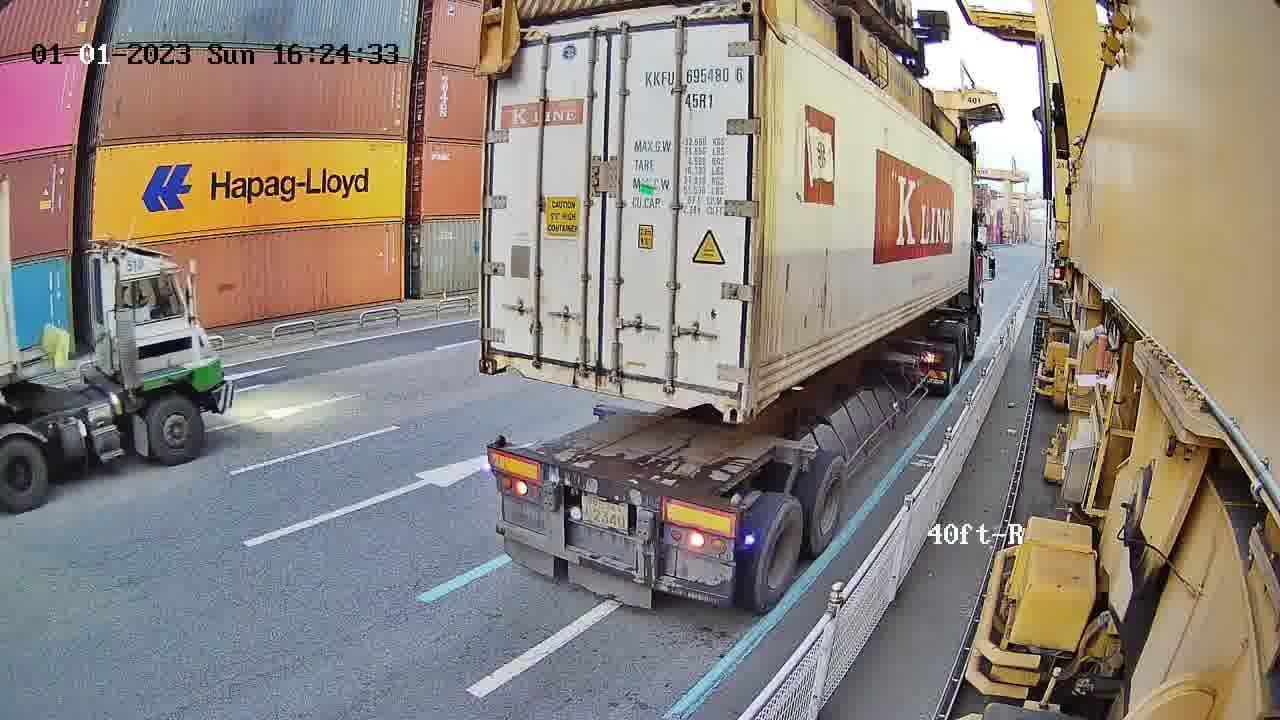Chassis: (485, 449, 742, 536)
Cone: (486, 432, 507, 464), (727, 492, 744, 526)
Hole_L: (746, 366, 777, 423), (478, 332, 514, 376)
Hole_R: (699, 379, 744, 419)
Tire: (750, 500, 805, 609), (813, 458, 850, 549)
